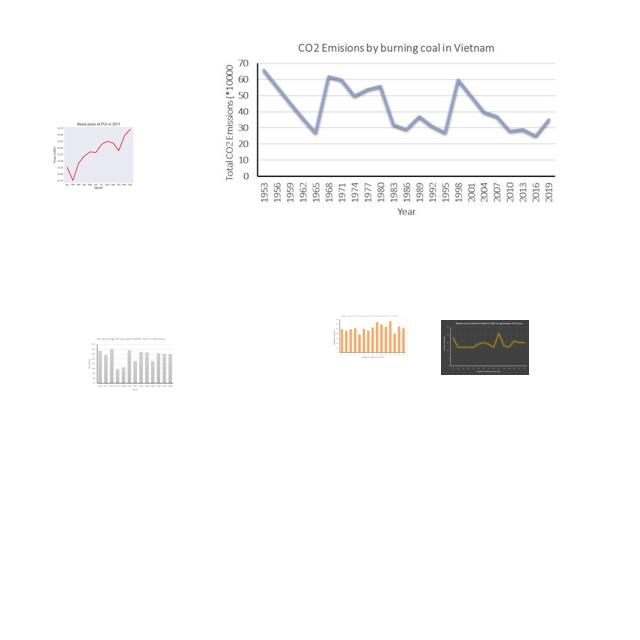Graph: (222, 35, 560, 218), (49, 118, 146, 191), (86, 336, 174, 392), (441, 320, 529, 375), (332, 314, 408, 360)
